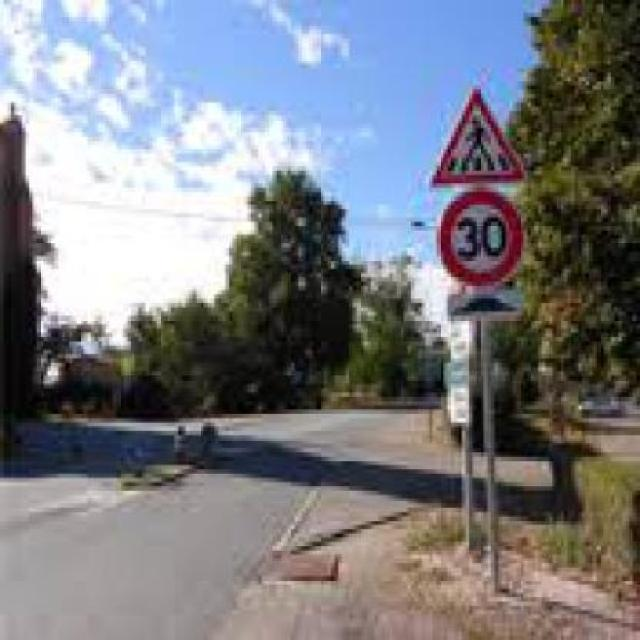forb_speed_over_30: (436, 188, 527, 291)
